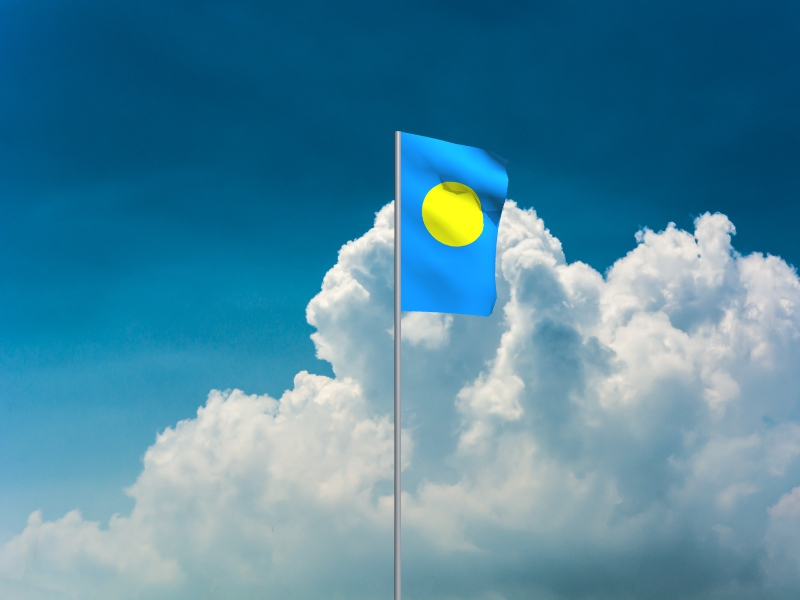pw: (401, 133, 510, 319)
